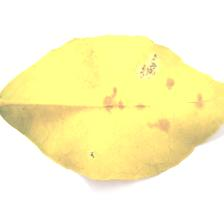black spot: (86, 59, 212, 142)
